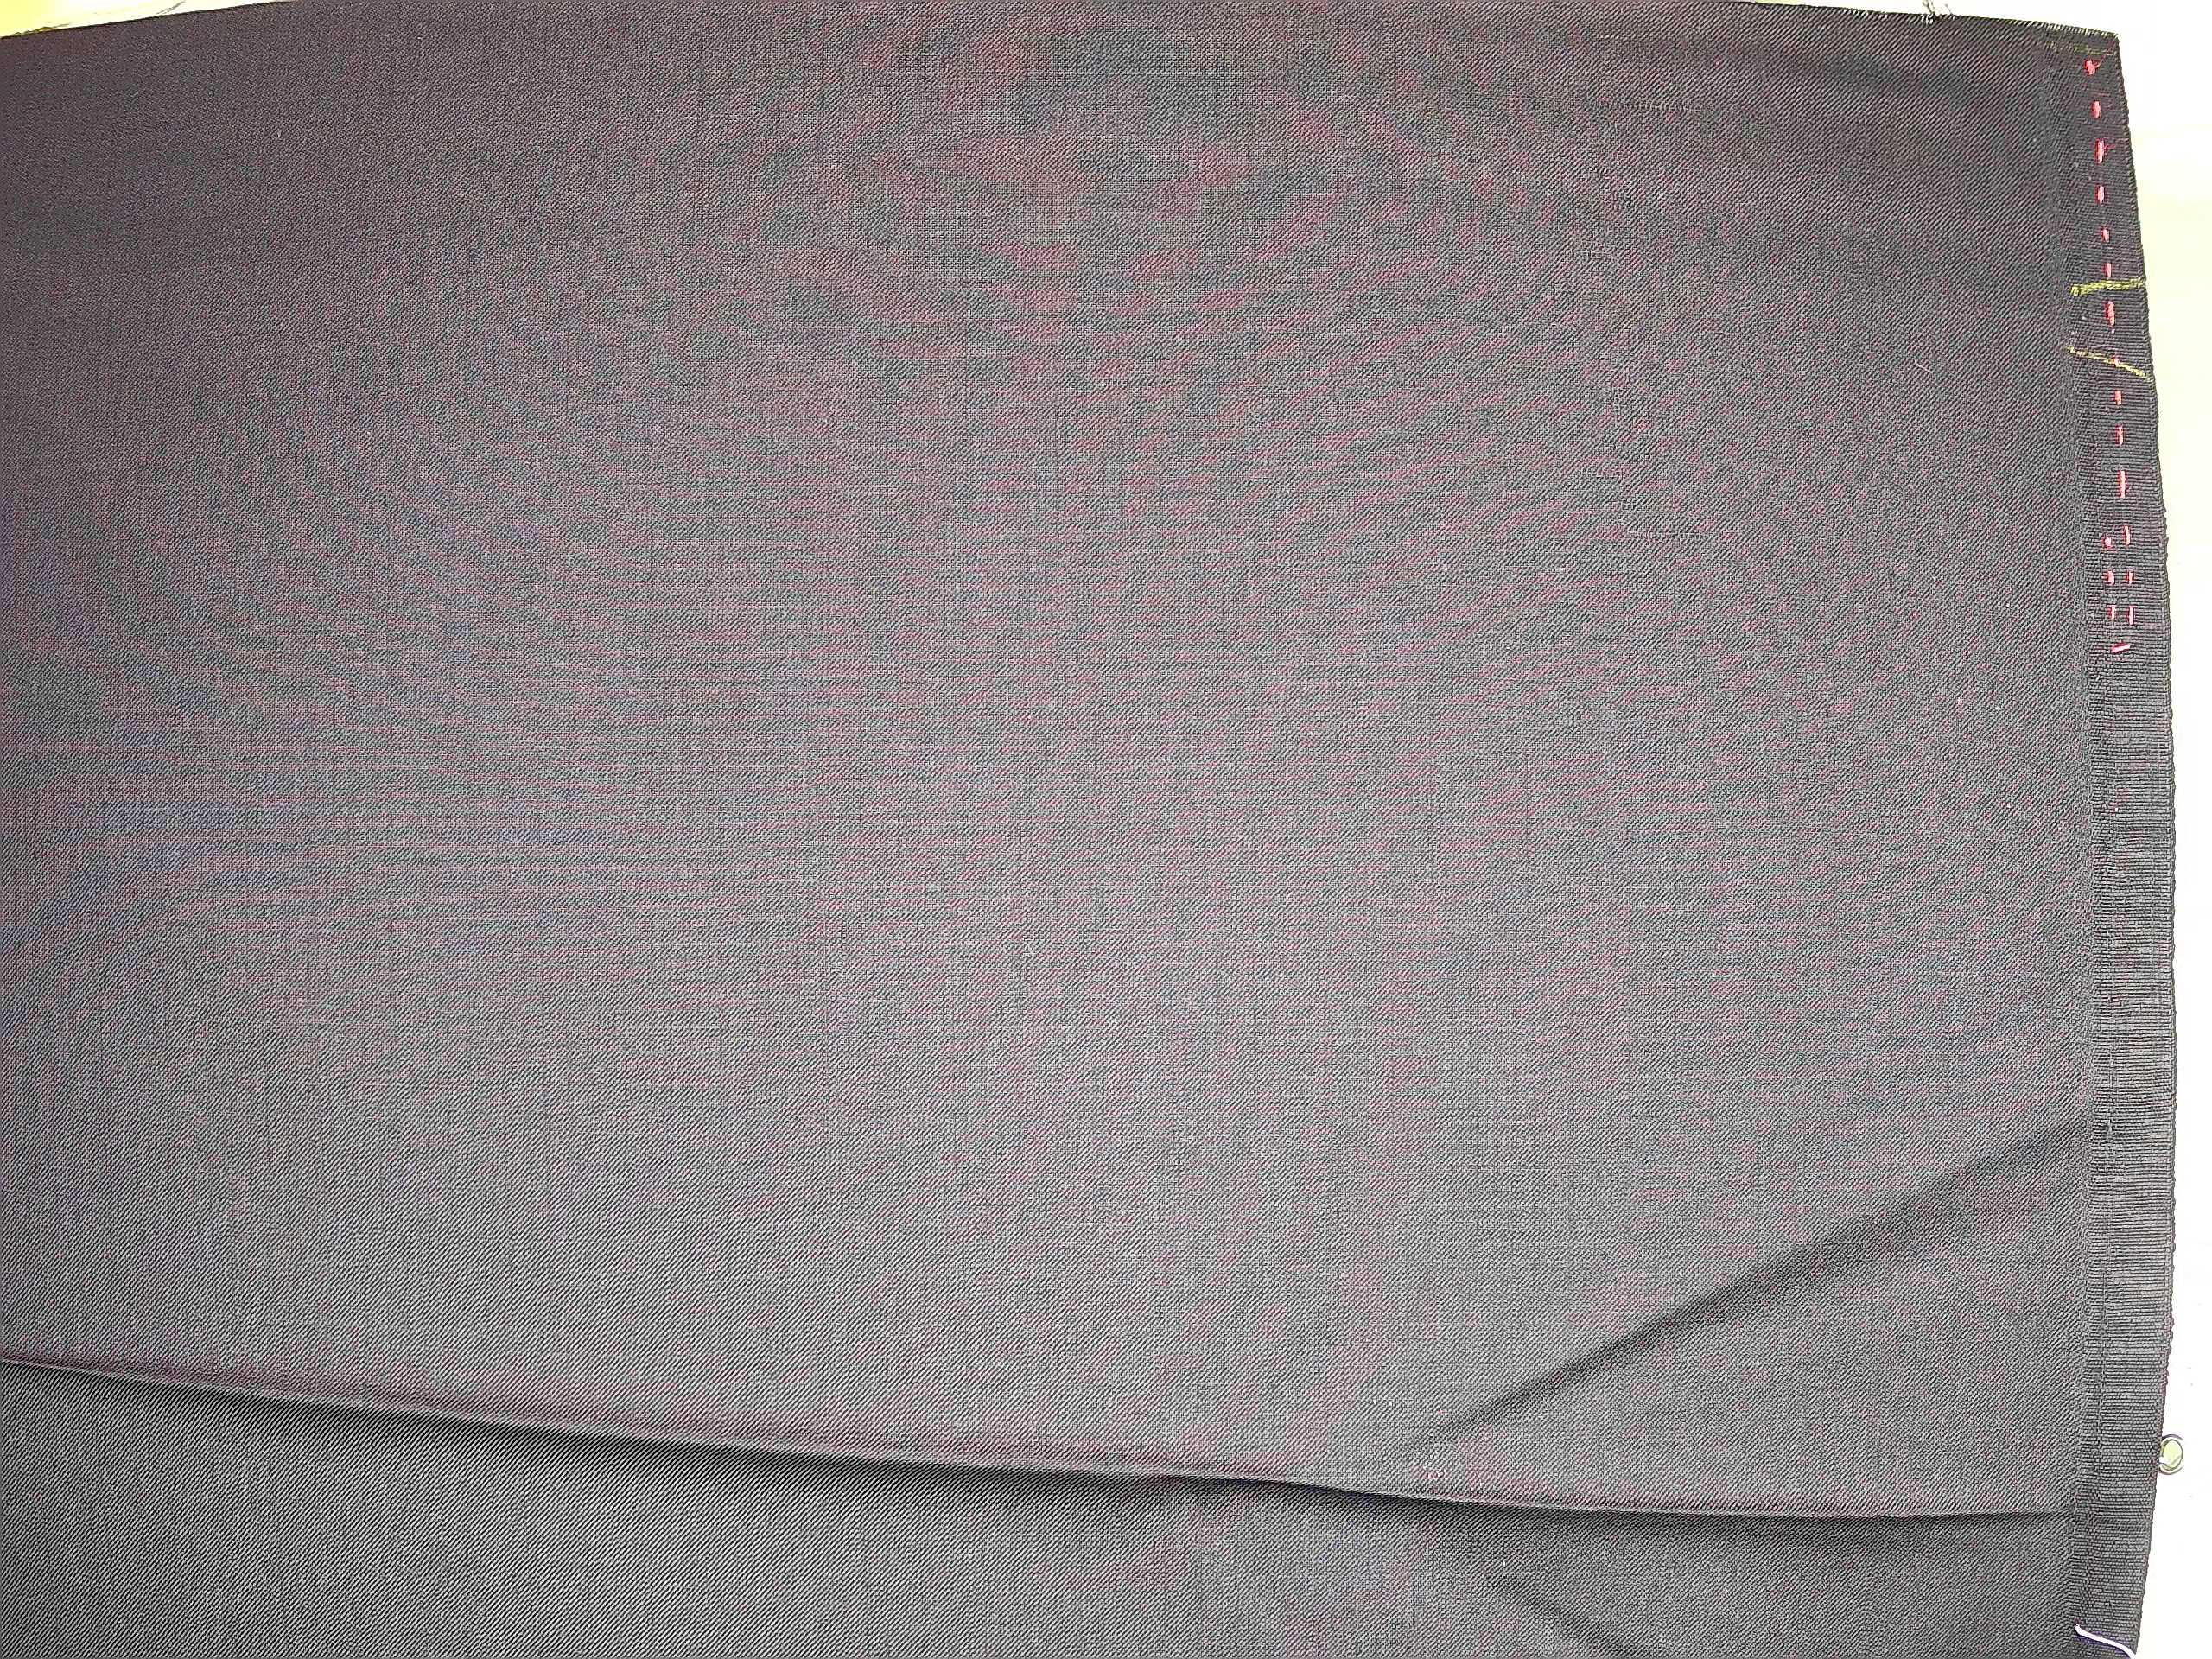jumps: (1587, 87, 1700, 223), (1611, 505, 1728, 570), (1562, 448, 1646, 491), (1583, 23, 1683, 51)
